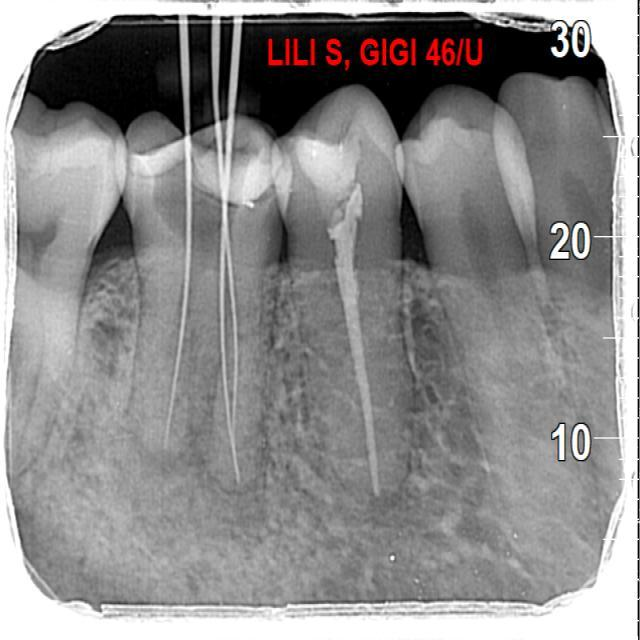individual-tooth-8tto: (393, 79, 599, 570), (113, 111, 290, 483), (272, 83, 410, 497)
